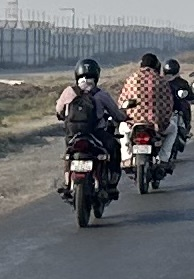BikeWithRider: (50, 55, 131, 230), (113, 49, 188, 196), (159, 55, 194, 164)
Helmet: (70, 55, 104, 93), (159, 56, 183, 79)
NoHelmet: (135, 50, 164, 76)
